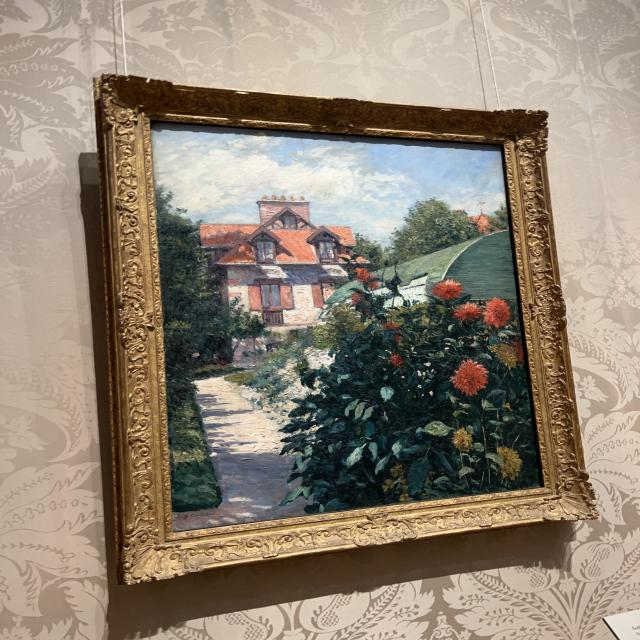summer: (159, 130, 538, 527)
